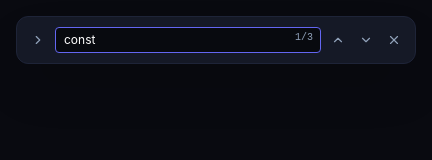
FindReplaceOverlay Component › toggles replace input row when replace toggle button is clicked
The width and height of the screenshot is (432, 160).
Check: the field with placeholder "Replace with" is not shown
Step 1. Click the button titled "Toggle Replace" → [38, 40], box x1=27 y1=29 x2=49 y2=51
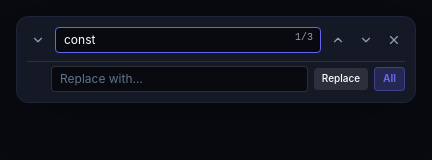
Check: the field with placeholder "Replace with..." is shown, box x1=51 y1=66 x2=308 y2=92
